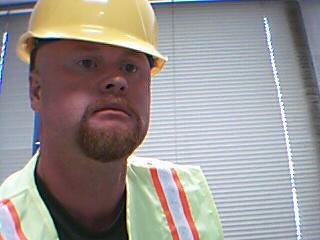person hardhat: (14, 1, 167, 163)
